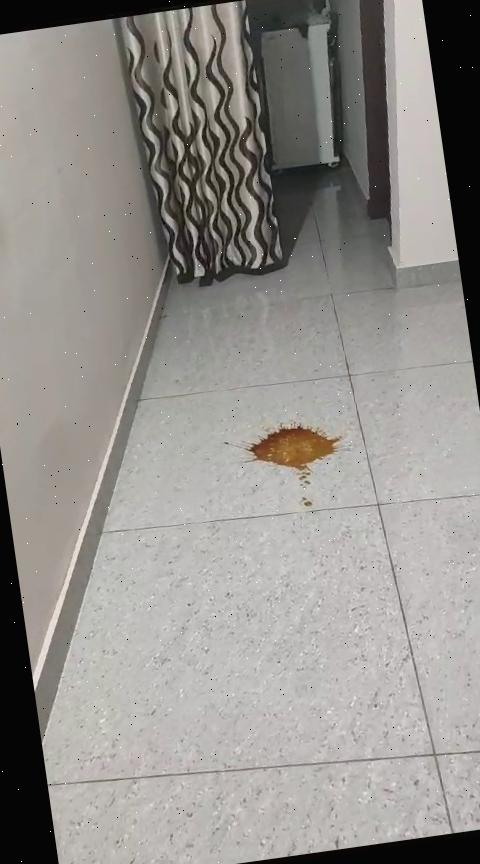dirty_floor: (220, 396, 376, 524)
